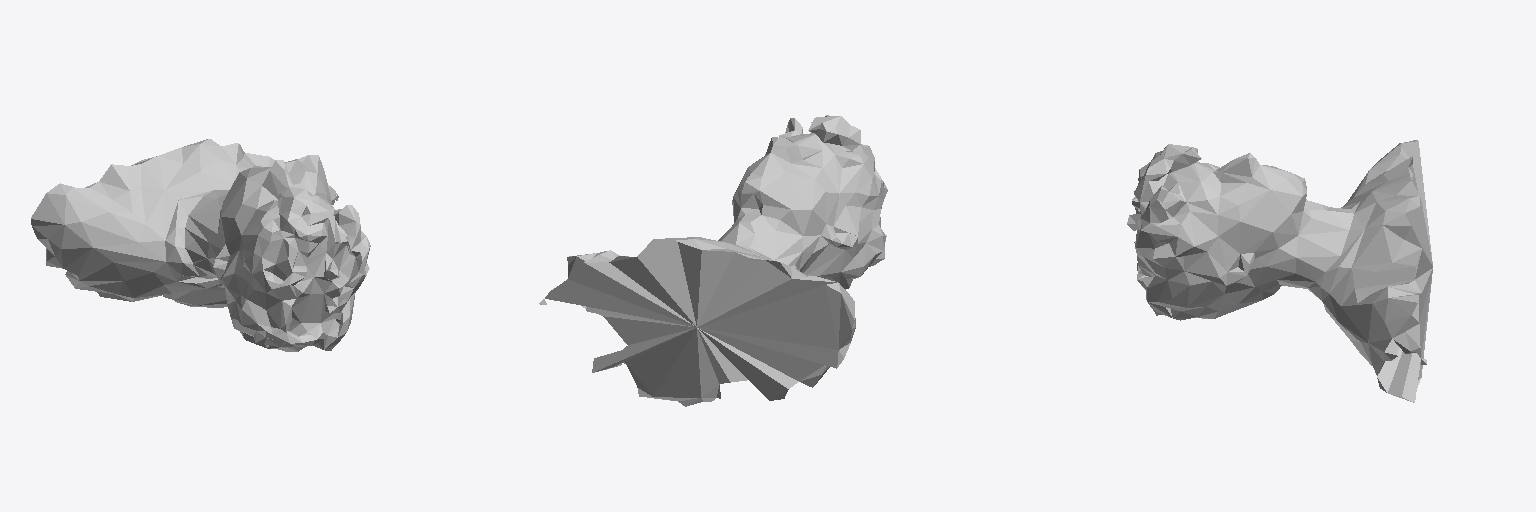
The model's file is sam_hp.obj.
3 renders of one model, left to right at view 1: azimuth 30°, elevation 25°; view 2: azimuth 150°, elevation 25°; view 3: azimuth 270°, elevation 25°, orthographic.
Parts seen in each view (by area): view 1: sam_hp; view 2: sam_hp; view 3: sam_hp.
Part boxes in pixels (x1,y1,x2,y2): sam_hp: (31,139,370,351); sam_hp: (539,115,887,406); sam_hp: (1127,140,1432,402).
Size of the model in its own units: 0.4853 by 0.3134 by 0.4124.